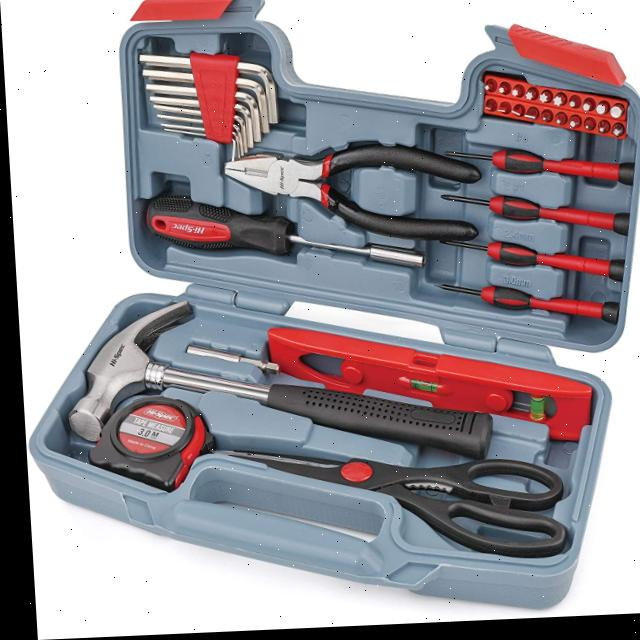Screwdriver: (144, 197, 421, 271), (439, 199, 627, 241), (438, 245, 621, 288), (432, 288, 616, 330), (442, 153, 633, 191)
